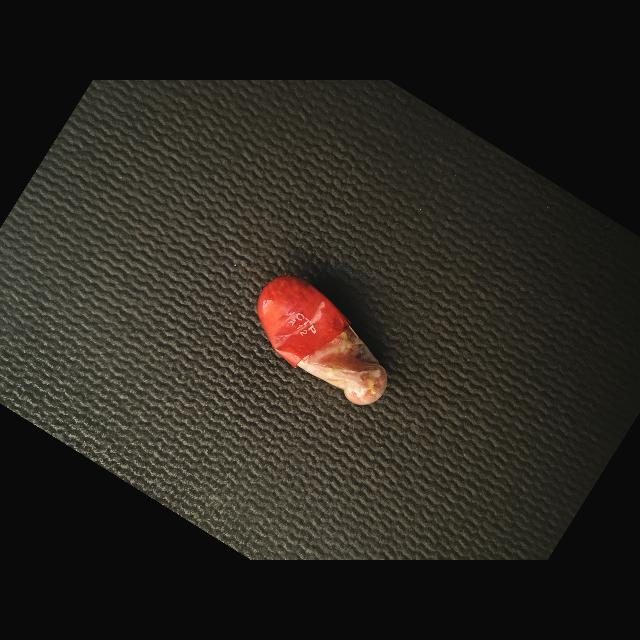Defective Capsule: (257, 276, 387, 405)
